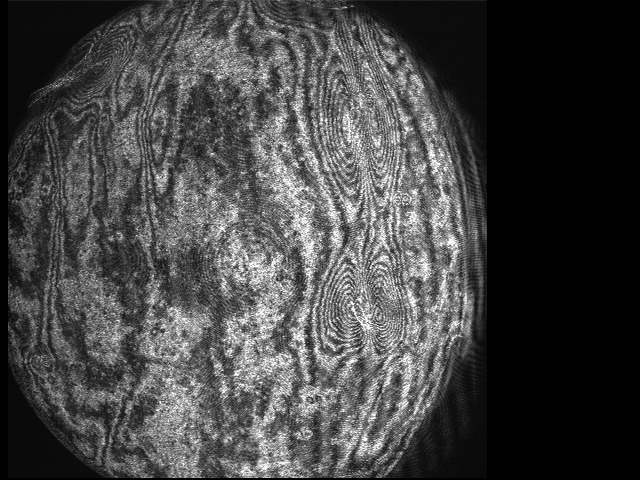plume: (321, 254, 407, 353)
